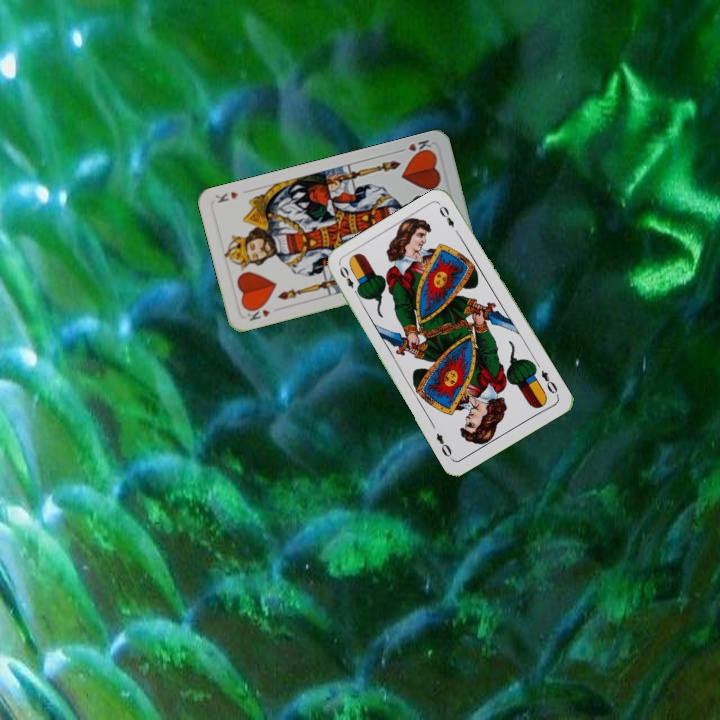EO: (335, 262, 362, 299), (537, 366, 560, 397)
HK: (394, 135, 436, 159), (243, 306, 273, 323)
